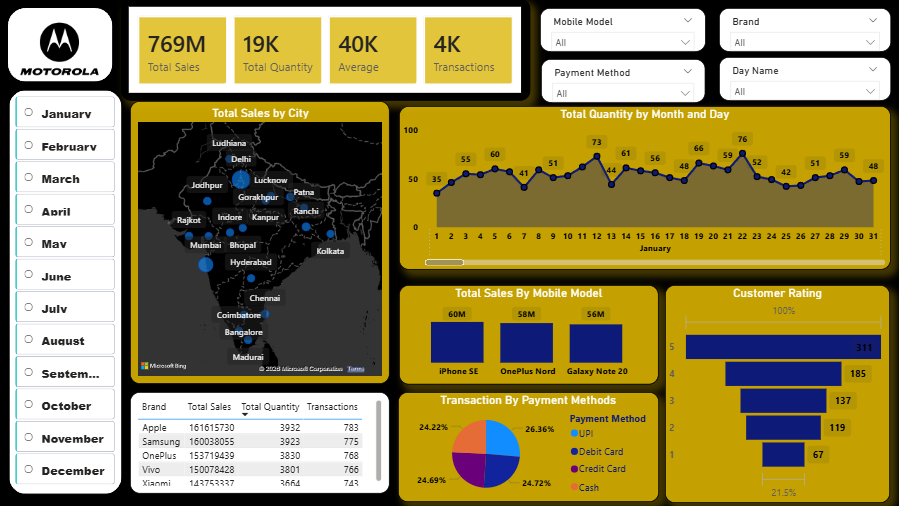

Layout of this report page (visuals, bound fields, positions):
{"tool":"powerbi","page":{"name":"Page 1","canvas":[1280,720],"ordinal":0},"visuals":[{"type":"shape","box":[15.1,13.4,147.8,104.1],"z":0},{"type":"image","box":[0,0,176.4,151.2],"z":1000},{"type":"shape","box":[16.8,129.3,159.6,572.8],"z":2000},{"type":"advancedSlicerVisual","fields":{"Values":["Sheet1.Date.Variation.Date Hierarchy.Month"]},"box":[16.8,129.3,159.6,572.8],"z":3000},{"type":"cardVisual","fields":{"Data":["Sales_Data.Total Sales","Sales_Data.Total Quantity","Sales_Data.Average","Sales_Data.Transactions"]},"box":[176.4,0,579.5,144.5],"z":4000},{"type":"map","fields":{"Size":["Sales_Data.Total Sales"],"Category":["Sales_Data.City"]},"box":[188.1,144.5,367.9,401.5],"z":5000},{"type":"lineChart","title":"Total Quantity by Month and Day","fields":{"Y":["Sum(Sales_Data.Units Sold)"],"Category":["Sales_Data.Date.Variation.Date Hierarchy.Month","Sales_Data.Date.Variation.Date Hierarchy.Day"]},"box":[569.4,151.2,697.1,231.8],"z":6000},{"type":"columnChart","title":"Total Sales By Mobile Model","fields":{"Category":["Sales_Data.Mobile Model"],"Y":["Sales_Data.Total Sales"]},"box":[569.4,404.8,367.9,141.1],"z":7000},{"type":"pieChart","title":"Transaction By Payment Methods","fields":{"Category":["Sales_Data.Payment Method"],"Y":["Sales_Data.Transactions"]},"box":[567.8,557.7,369.6,156.2],"z":8000},{"type":"funnel","title":" Customer Rating","fields":{"Category":["Sales_Data.Customer Ratings"],"Y":["CountNonNull(Sales_Data.Customer Ratings)"]},"box":[947.4,404.8,319.2,309.1],"z":9000},{"type":"tableEx","fields":{"Values":["Sales_Data.Brand","Sales_Data.Total Sales","Sales_Data.Total Quantity","Sales_Data.Transactions"]},"box":[188.5,557,367.1,157.3],"z":10000},{"type":"slicer","fields":{"Values":["Sales_Data.Mobile Model"]},"box":[769.3,13.4,235.2,62.2],"z":11000},{"type":"slicer","fields":{"Values":["Sales_Data.Brand"]},"box":[1023,13.4,243.6,62.2],"z":12000},{"type":"slicer","fields":{"Values":["Sales_Data.Payment Method"]},"box":[771,85.7,233.5,62.2],"z":13000},{"type":"slicer","fields":{"Values":["Sales_Data.Day Name"]},"box":[1023,82.3,243.6,62.2],"z":14000}]}

Visuals, with their boxes in screenshot pixels (x1, y1, x2, y2), scaled from the page's 1280x720 canvas onto the 899x506 screenshot:
shape: rect(11, 9, 114, 83)
image: rect(0, 0, 124, 106)
shape: rect(12, 91, 124, 493)
advancedSlicerVisual - Sheet1.Date.Variation.Date Hierarchy.Month: rect(12, 91, 124, 493)
cardVisual - Sales_Data.Total Sales x Sales_Data.Total Quantity: rect(124, 0, 531, 102)
map - Sales_Data.Total Sales x Sales_Data.City: rect(132, 102, 391, 384)
"Total Quantity by Month and Day" lineChart: rect(400, 106, 890, 269)
"Total Sales By Mobile Model" columnChart: rect(400, 284, 658, 384)
"Transaction By Payment Methods" pieChart: rect(399, 392, 658, 502)
" Customer Rating" funnel: rect(665, 284, 890, 502)
tableEx - Sales_Data.Brand x Sales_Data.Total Sales: rect(132, 391, 390, 502)
slicer - Sales_Data.Mobile Model: rect(540, 9, 706, 53)
slicer - Sales_Data.Brand: rect(718, 9, 890, 53)
slicer - Sales_Data.Payment Method: rect(542, 60, 706, 104)
slicer - Sales_Data.Day Name: rect(718, 58, 890, 102)
